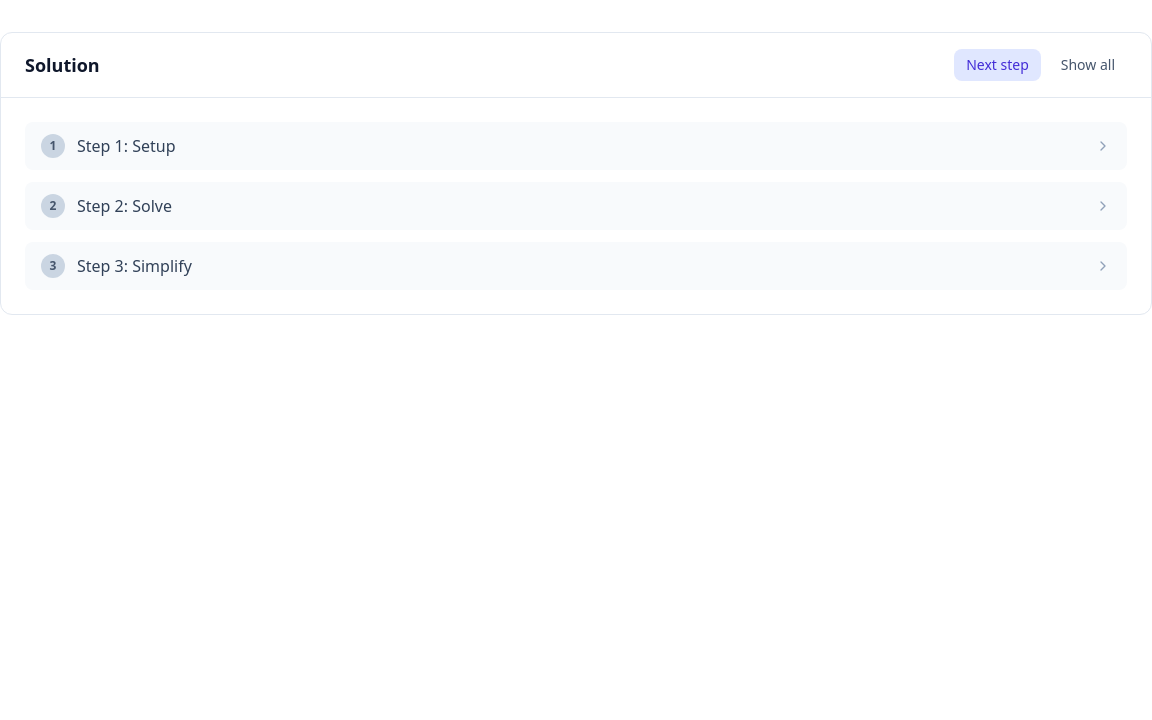
StepByStep › all steps can be revealed one by one via "Next step"
Click the button "Next step": coordinates (997, 65) x1=954 y1=49 x2=1041 y2=81
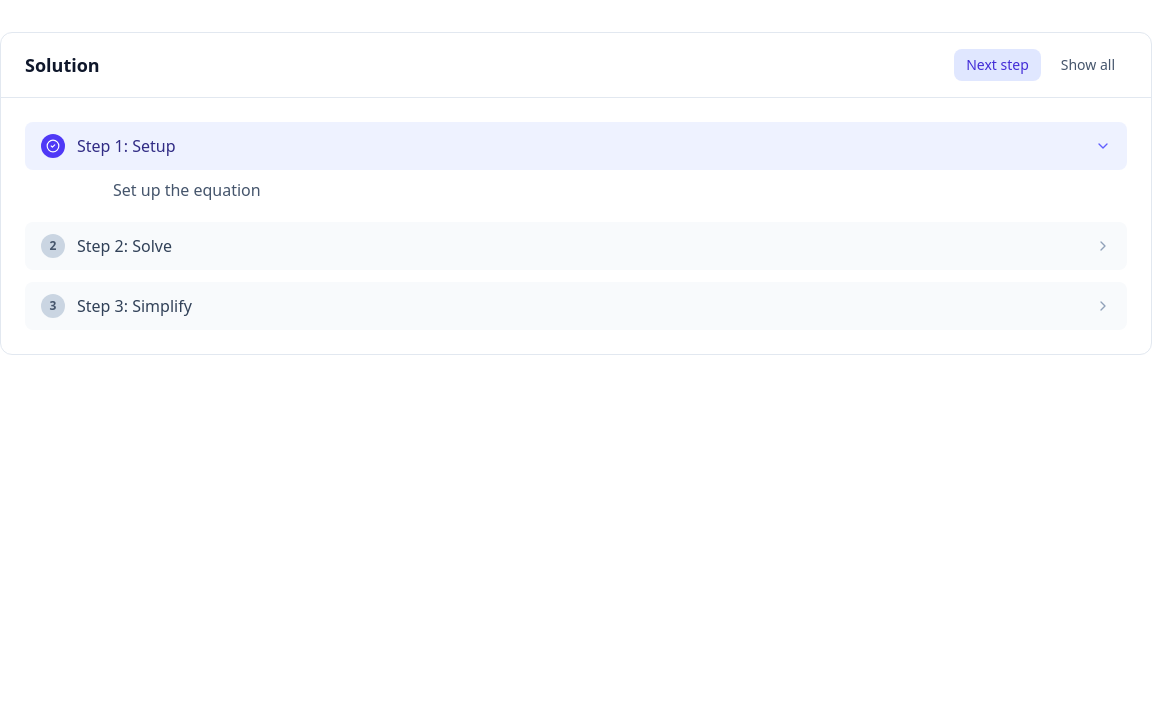
Expected: the text "Set up the equation" is shown, x1=113 y1=179 x2=261 y2=201
Click the button "Next step": coordinates (997, 65) x1=954 y1=49 x2=1041 y2=81
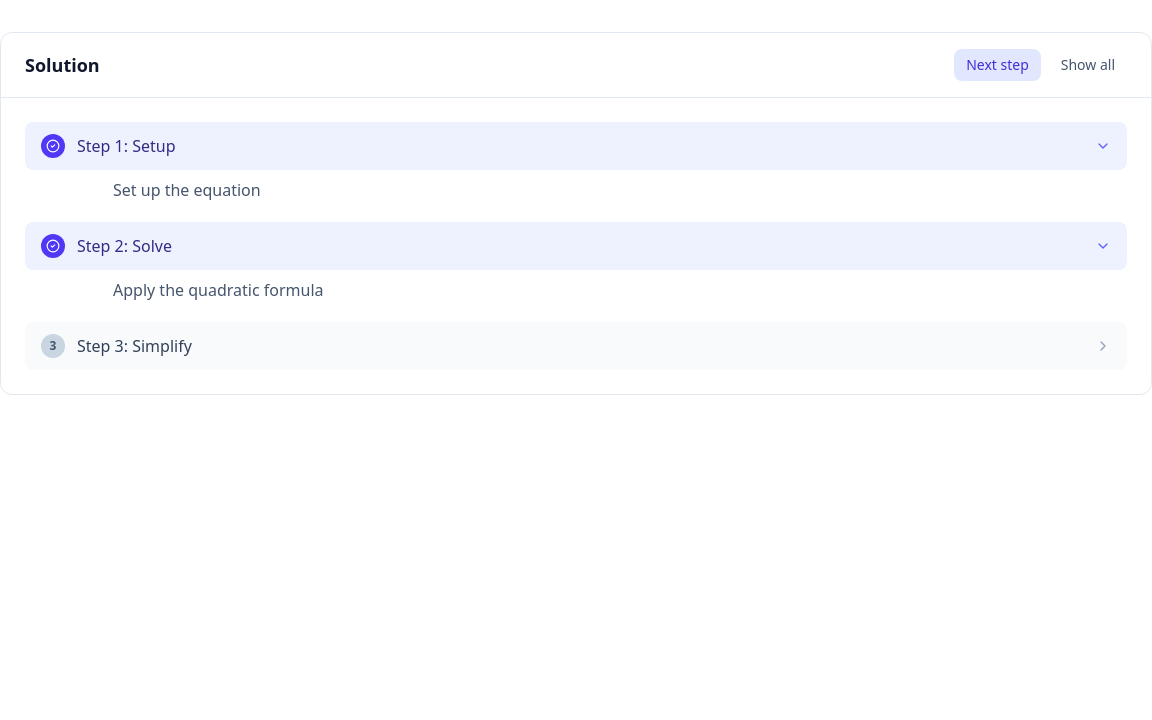
Expected: the text "Apply the quadratic formula" is shown, x1=113 y1=279 x2=324 y2=301
Click the button "Next step": coordinates (997, 65) x1=954 y1=49 x2=1041 y2=81
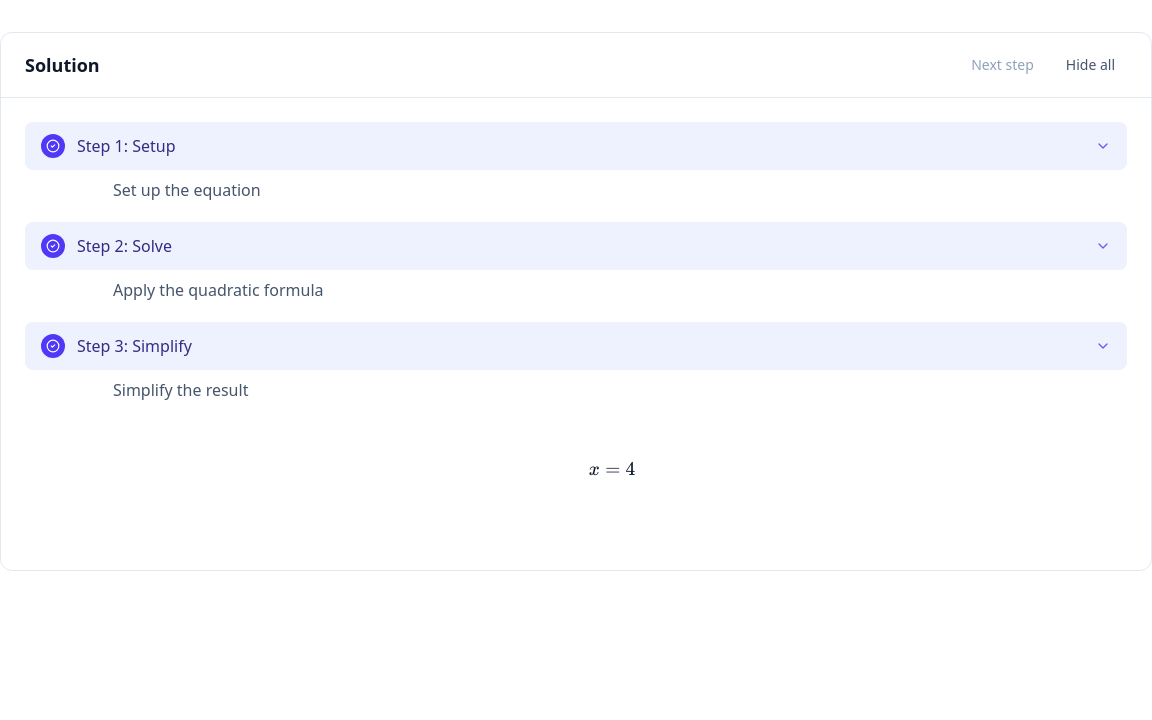
Expected: the text "Simplify the result" is shown, x1=113 y1=379 x2=248 y2=401
